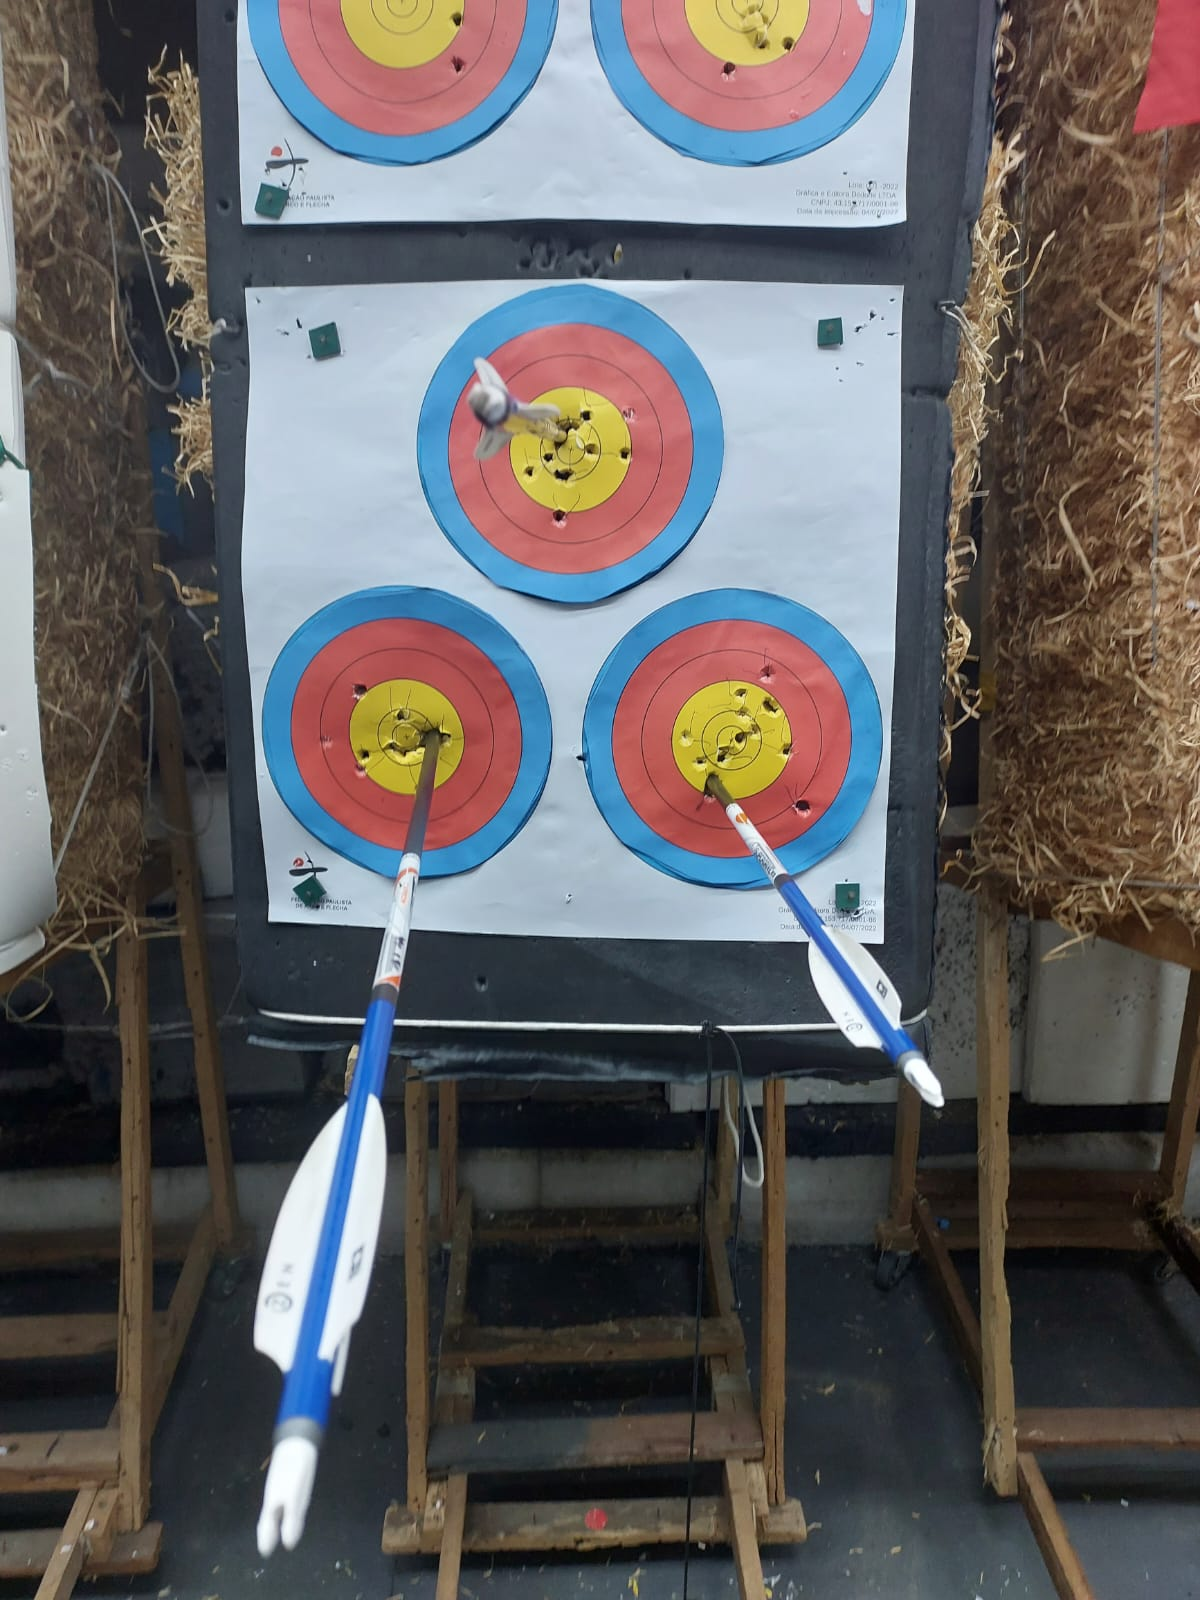10: (427, 296, 726, 602)
9: (613, 590, 875, 905)
9 linha 10: (272, 587, 556, 883)
